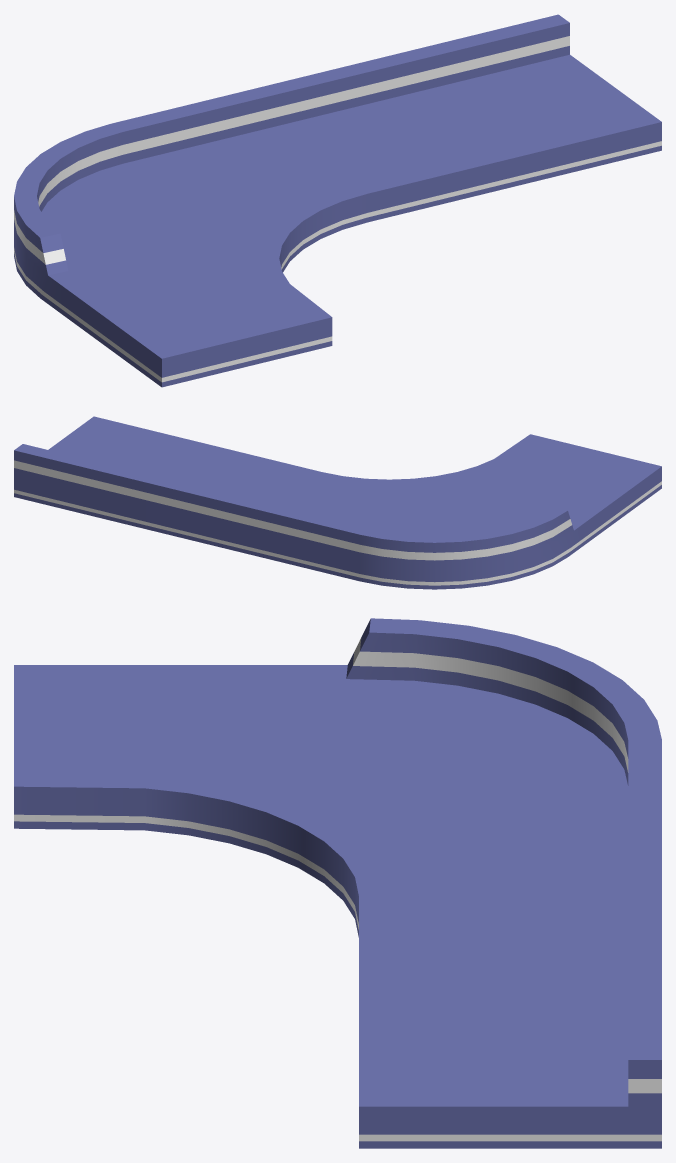
File: sm_jumpStart_05.fbx
The picture shows the model from 3 angles, top to bottom: view 1: azimuth 30°, elevation 25°; view 2: azimuth 150°, elevation 25°; view 3: azimuth 270°, elevation 25°; orthographic projection. The views are drawn at different scales.
Visible parts, largest first — view 1: sm_jumpStart_05; view 2: sm_jumpStart_05; view 3: sm_jumpStart_05.
Boxes of the visible parts, bbox=[...] form: sm_jumpStart_05: bbox=[14, 14, 661, 387]; sm_jumpStart_05: bbox=[14, 416, 661, 589]; sm_jumpStart_05: bbox=[14, 618, 661, 1148].
Bounding box in the file's own units: 2422 × 226 × 1501.
